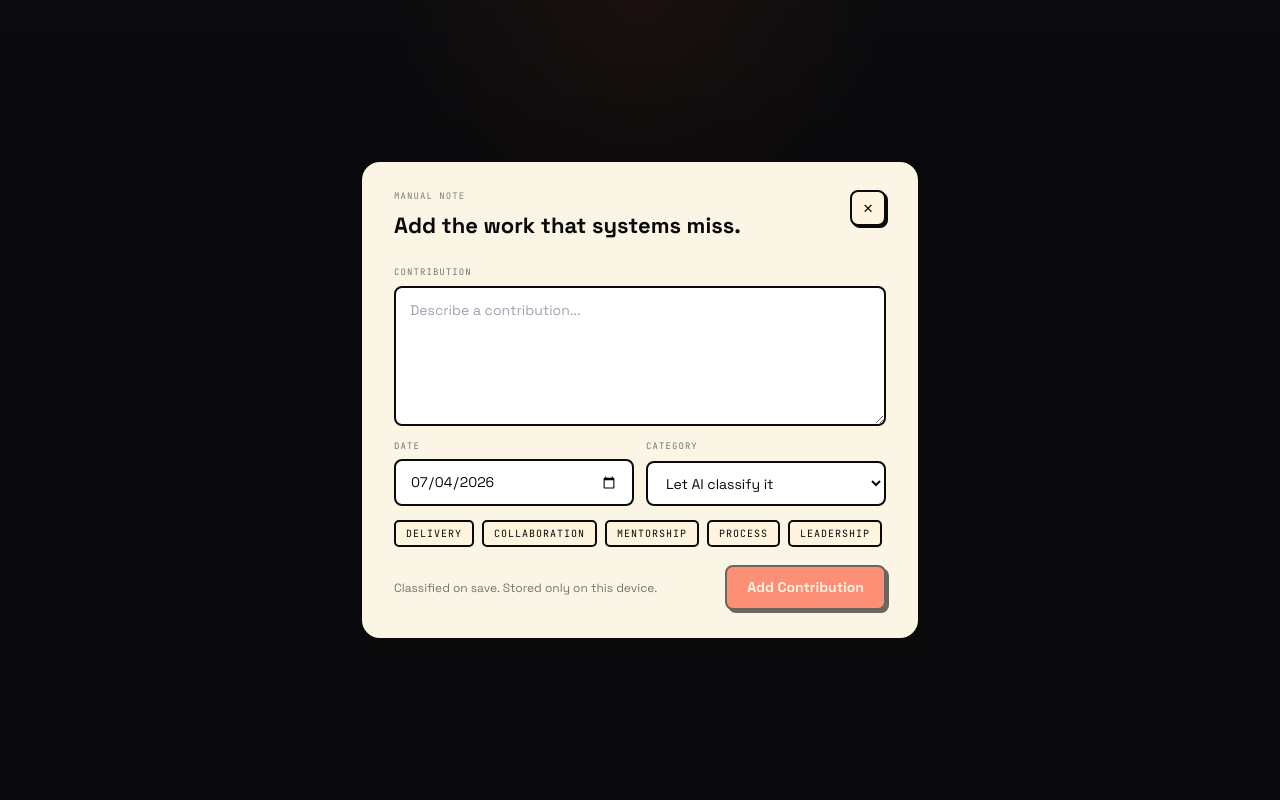
Test case: <ManualInputForm /> › shows success message after submission
Type "Reviewed three PRs from new engineers." into the text box with placeholder "Describe a contribution...". click: (640, 356)
box: [394,286,886,426]
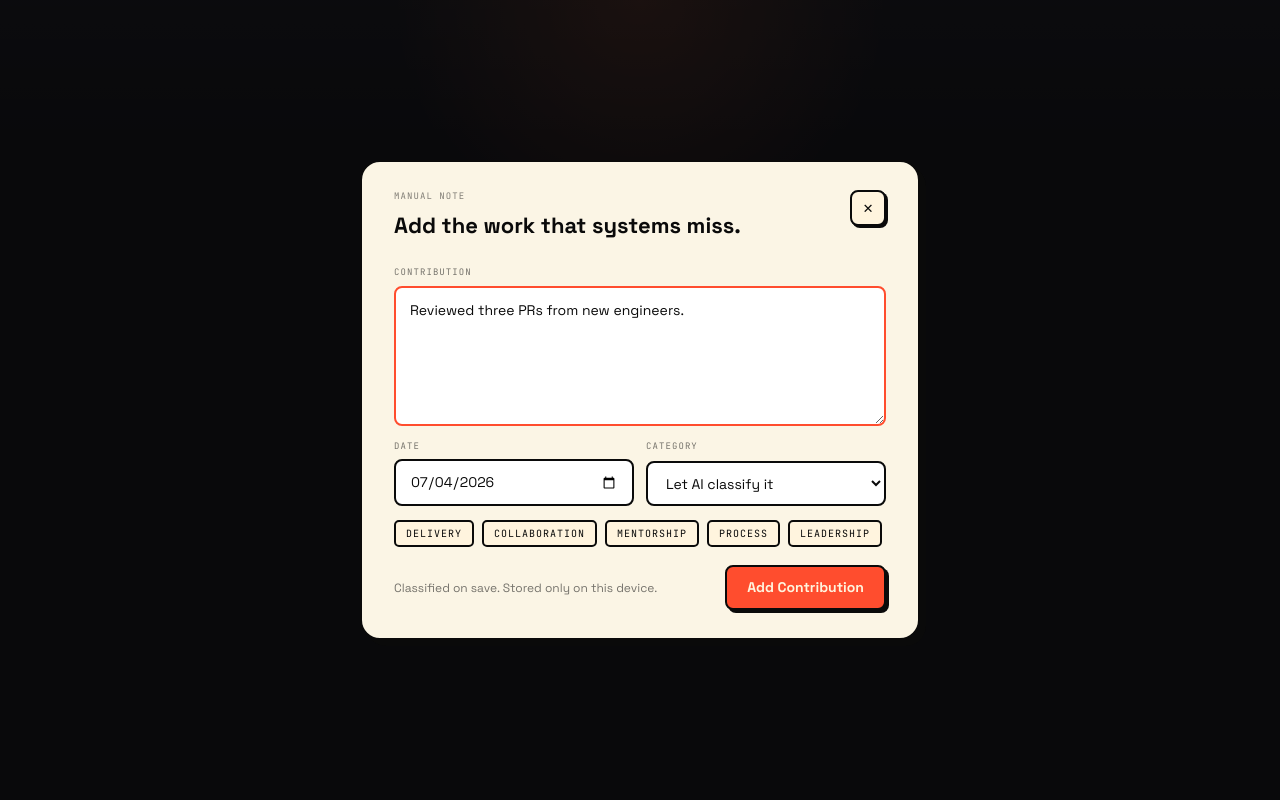
Click the button "Add Contribution". click: (806, 588)
box: [725,565,886,610]
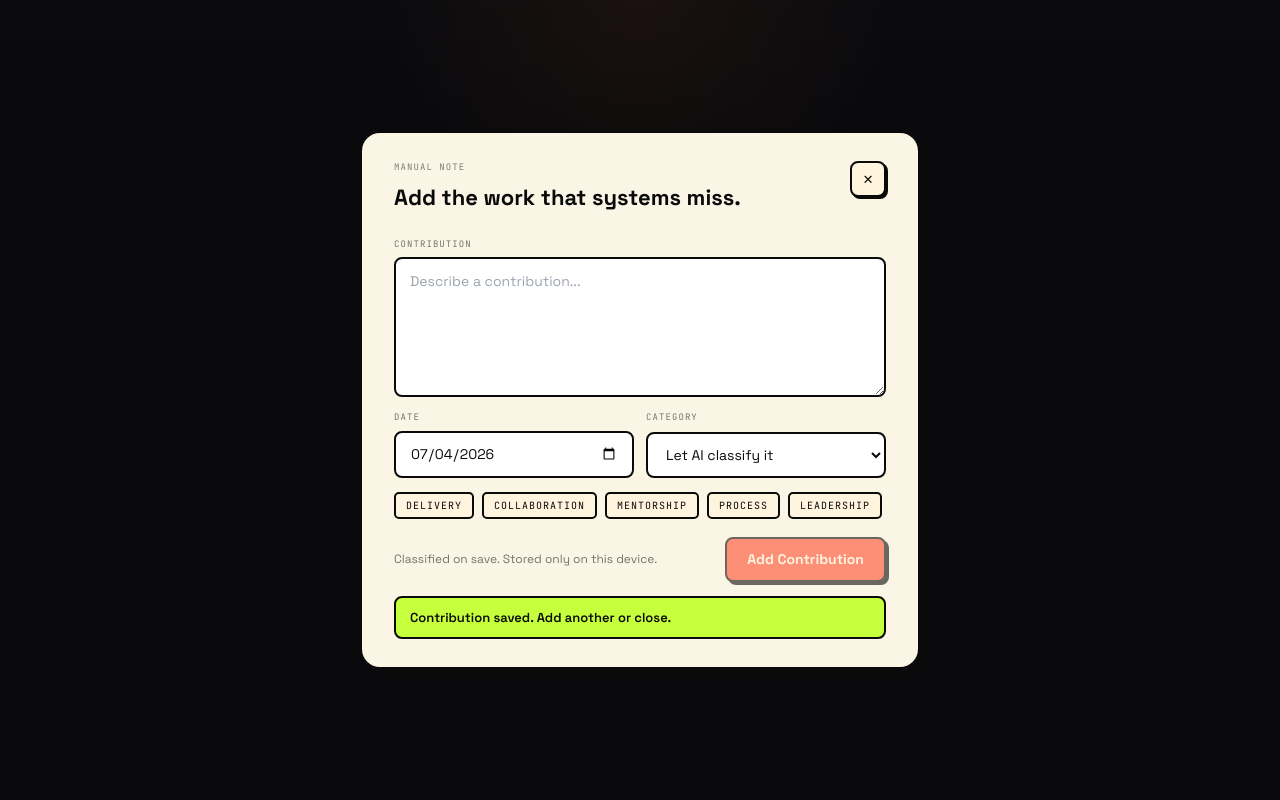
Result: the text "Contribution saved. Add another or close." is shown at [394,596,886,639]
